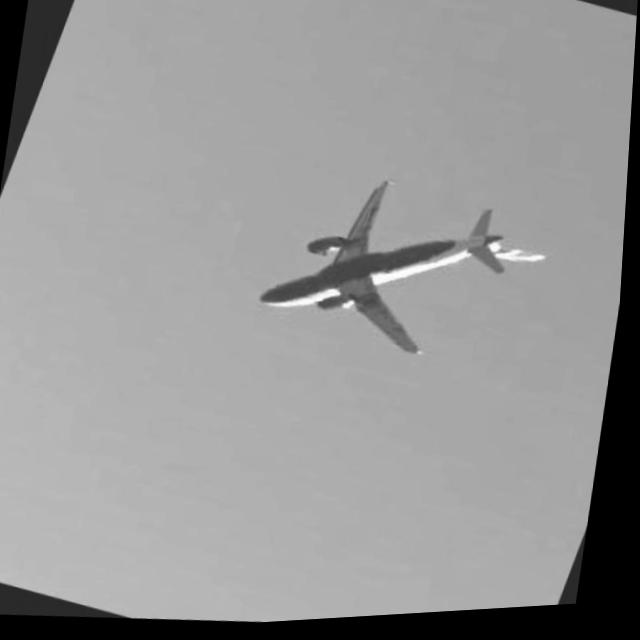aeroplane: (247, 145, 571, 411)
